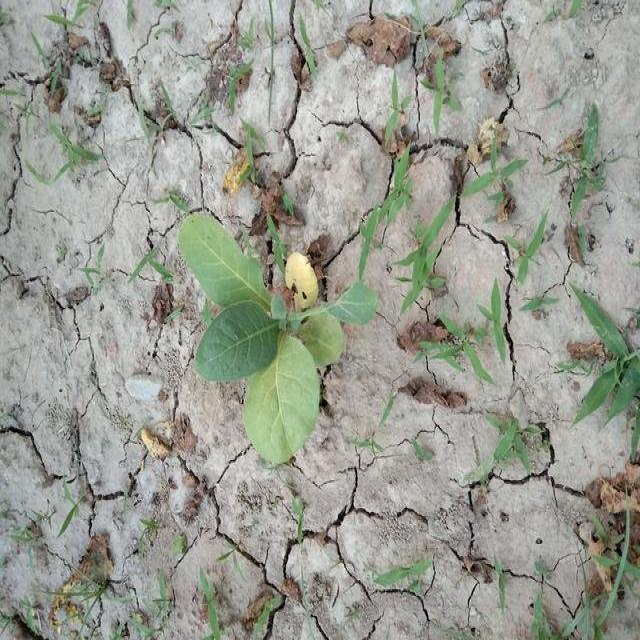crop: (172, 188, 382, 466)
